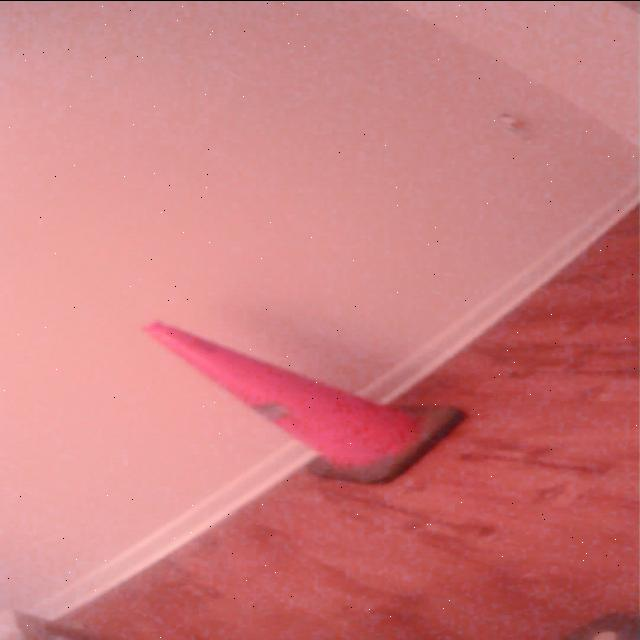traffic cone: (140, 316, 471, 488)
